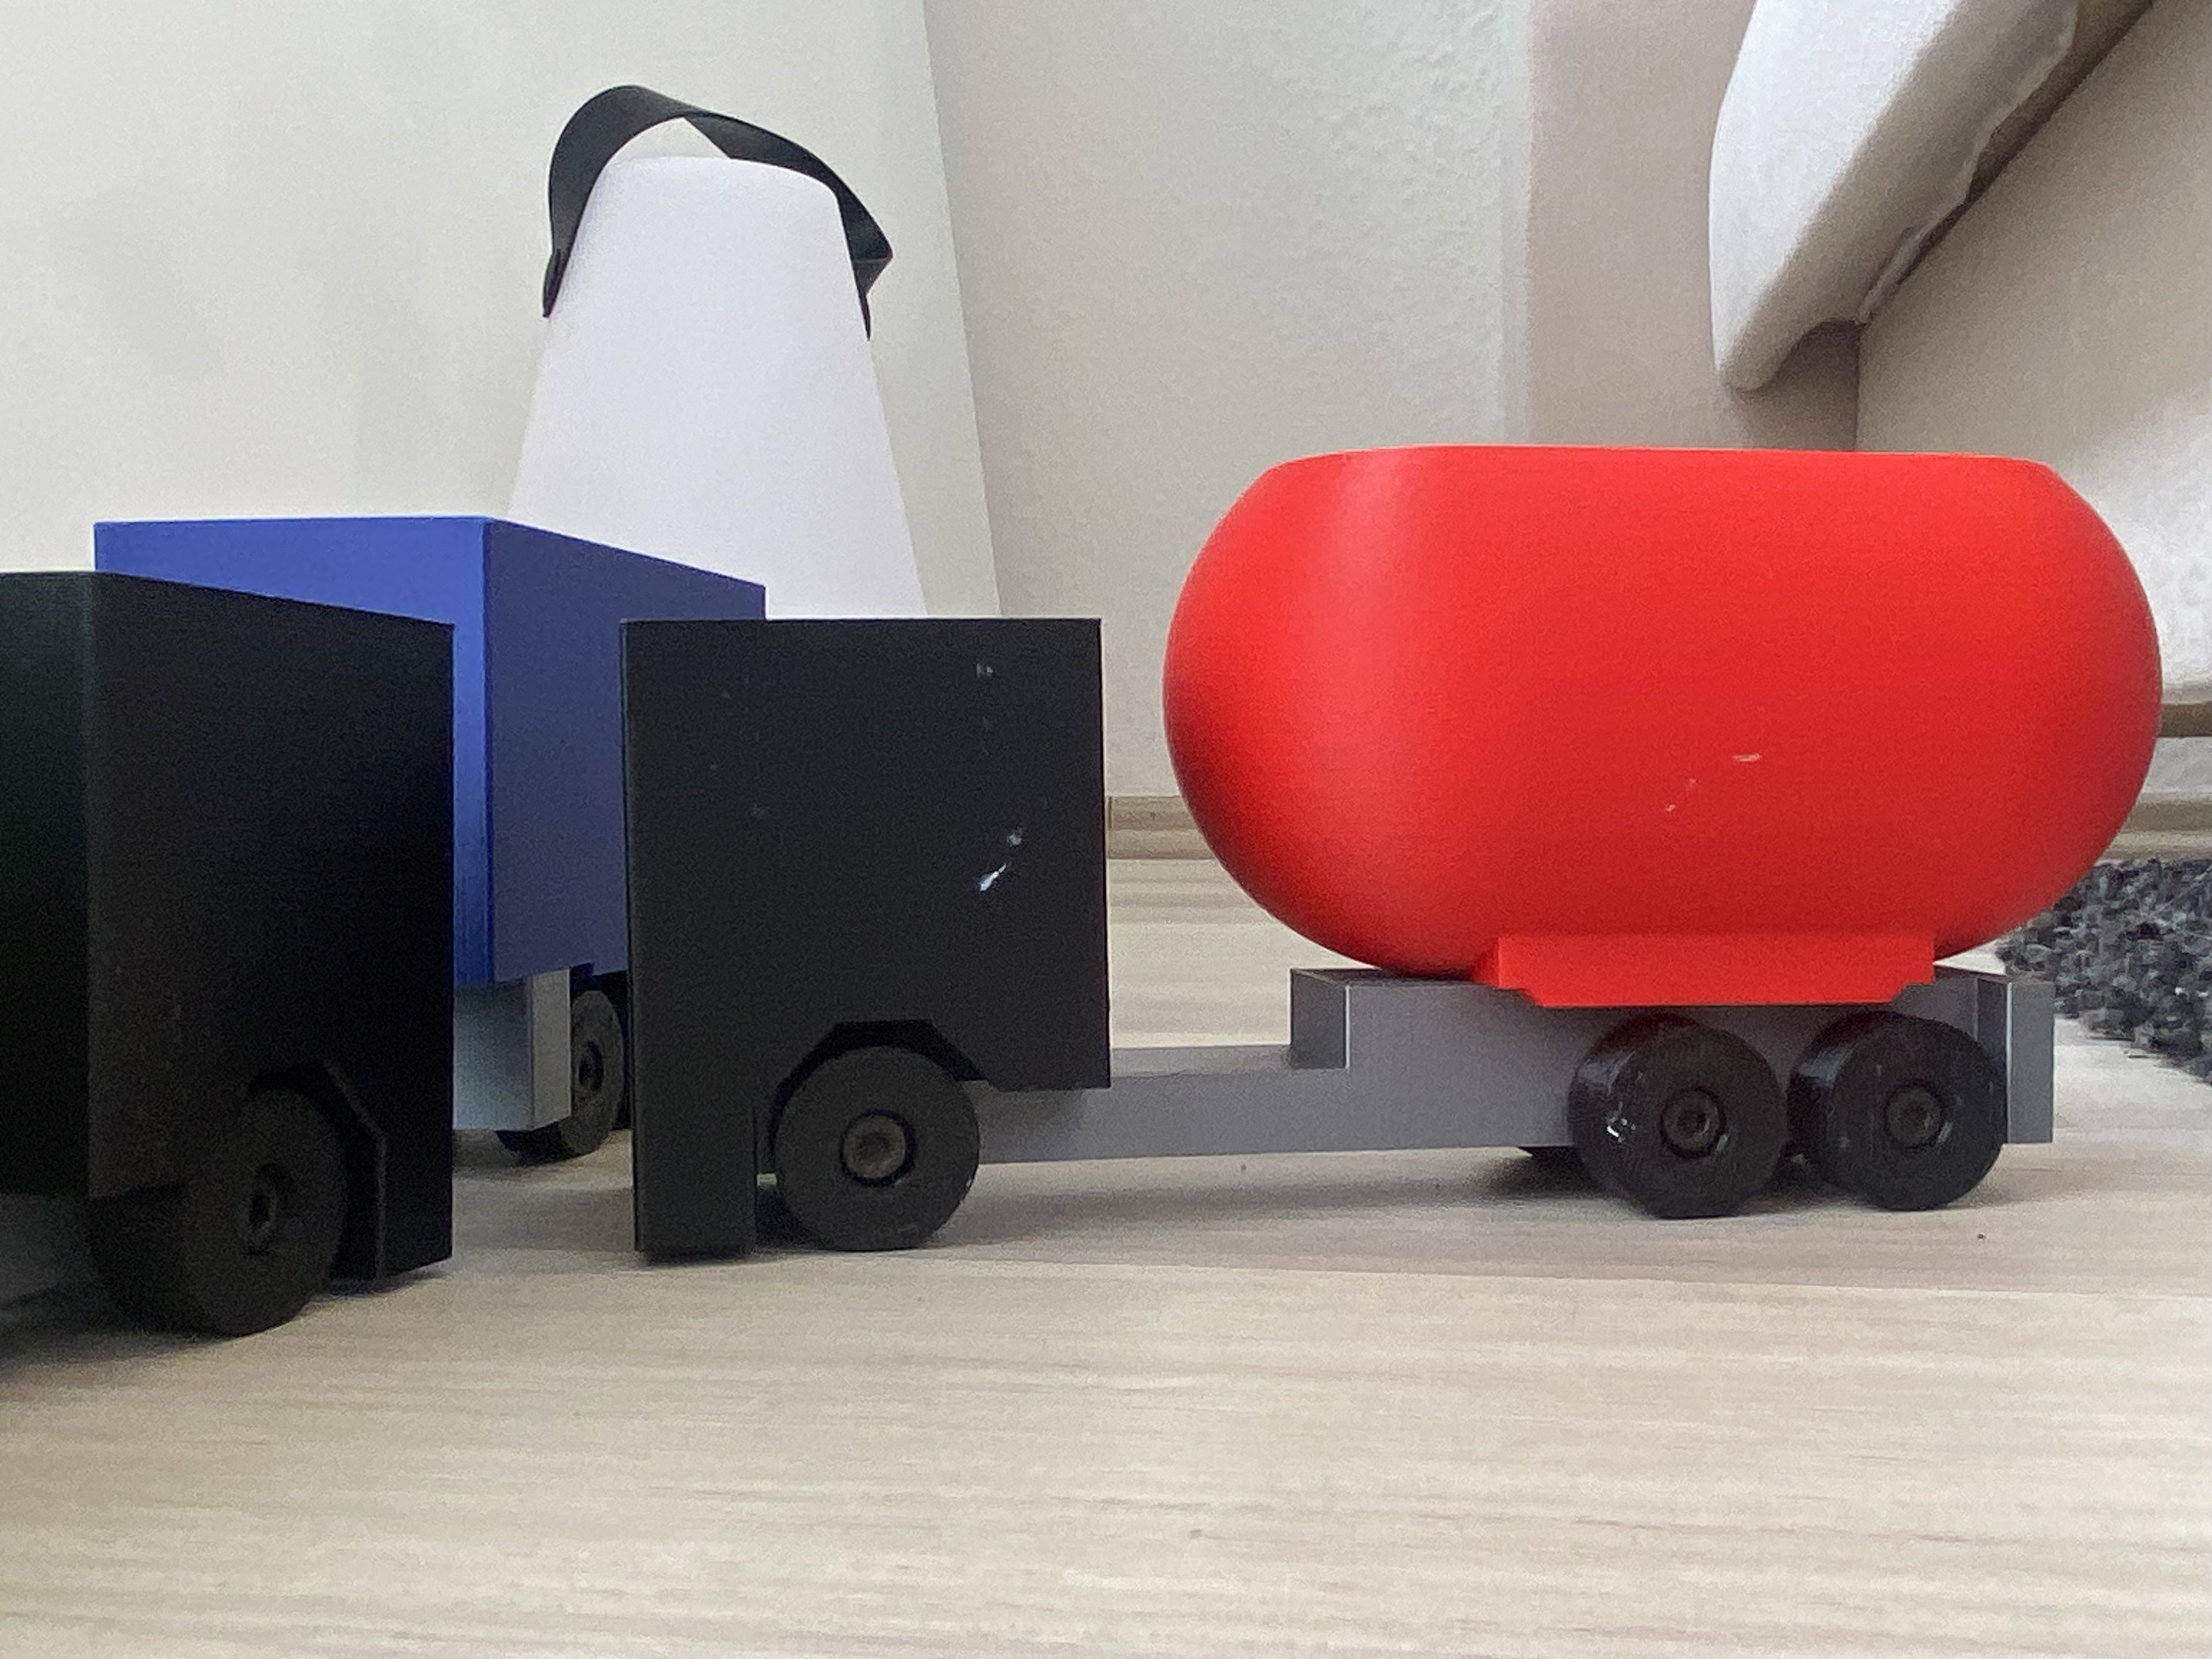blue_truck: (190, 709, 972, 1086)
red_truck: (937, 125, 1761, 1593)
